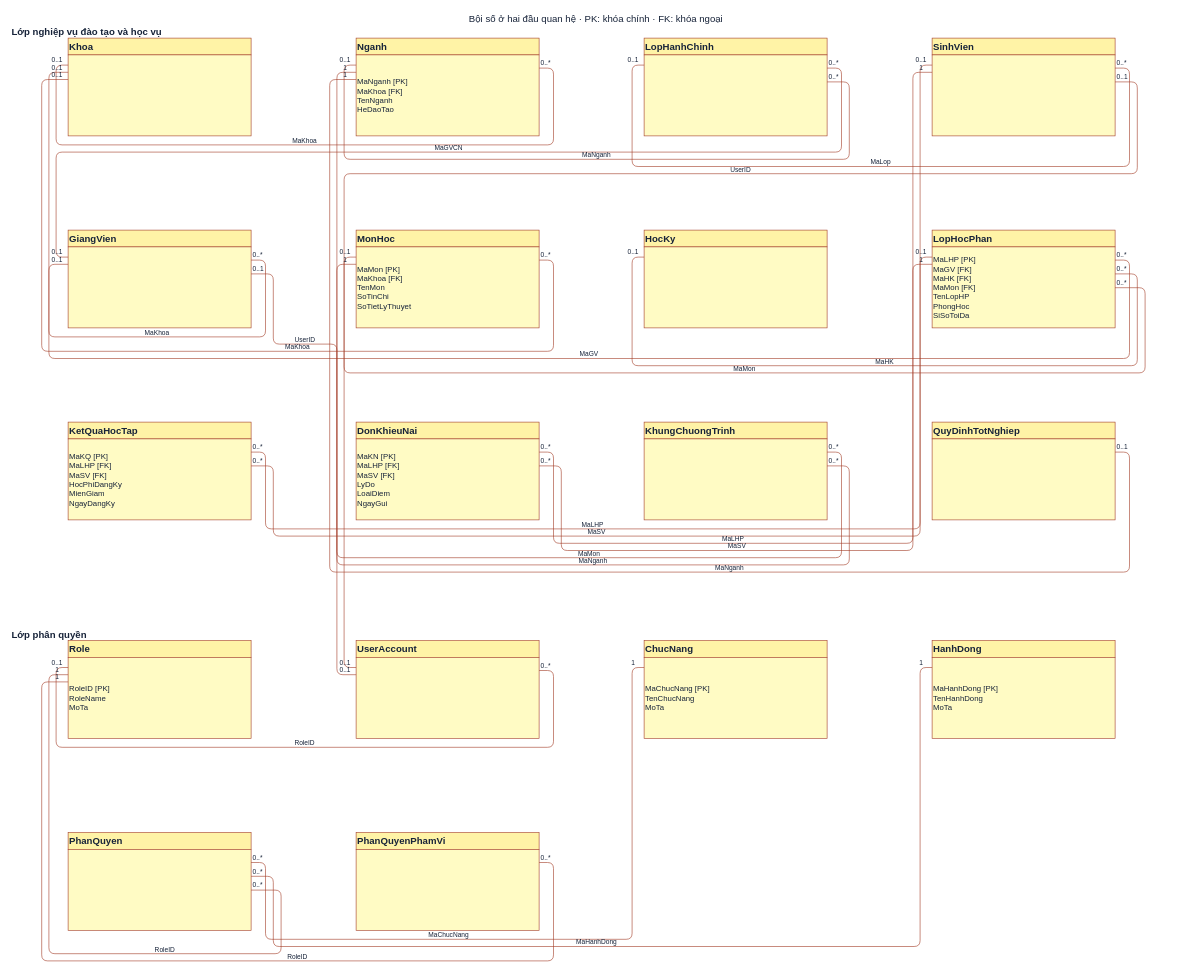
This 1185x972 diagram has some shape labels left out. Here are the shapes that lost their labels. From the top down, the centre of each, then its label:
the point at 159,95: MaKhoa [PK] TenKhoa NgayThanhLap TruongKhoa
the point at 735,95: MaLop [PK] MaGVCN [FK] MaNganh [FK] TenLop NienKhoa
the point at 1023,95: MaSV [PK] MaLop [FK] UserID [FK] HoTen NgaySinh GioiTinh
the point at 159,287: MaGV [PK] MaKhoa [FK] UserID [FK] HoTen NgaySinh GioiTinh
the point at 735,287: MaHK [PK] TenHK NamHocBatDau NamHocKetThuc
the point at 735,479: ID [PK] MaMon [FK] MaNganh [FK] HocKyDuKien LoaiMon
the point at 1023,479: MaNganh [PK/FK] TongTTC TCBatBuoc TCTuChon
the point at 447,697: UserID [PK] RoleID [FK] Username PasswordHash IsActive
the point at 159,889: RoleID [PK/FK] MaChucNang [PK/FK] MaHanhDong [PK/FK]
the point at 447,889: RoleID [PK/FK] MaPhamVi [PK] Module Rule IsActive
